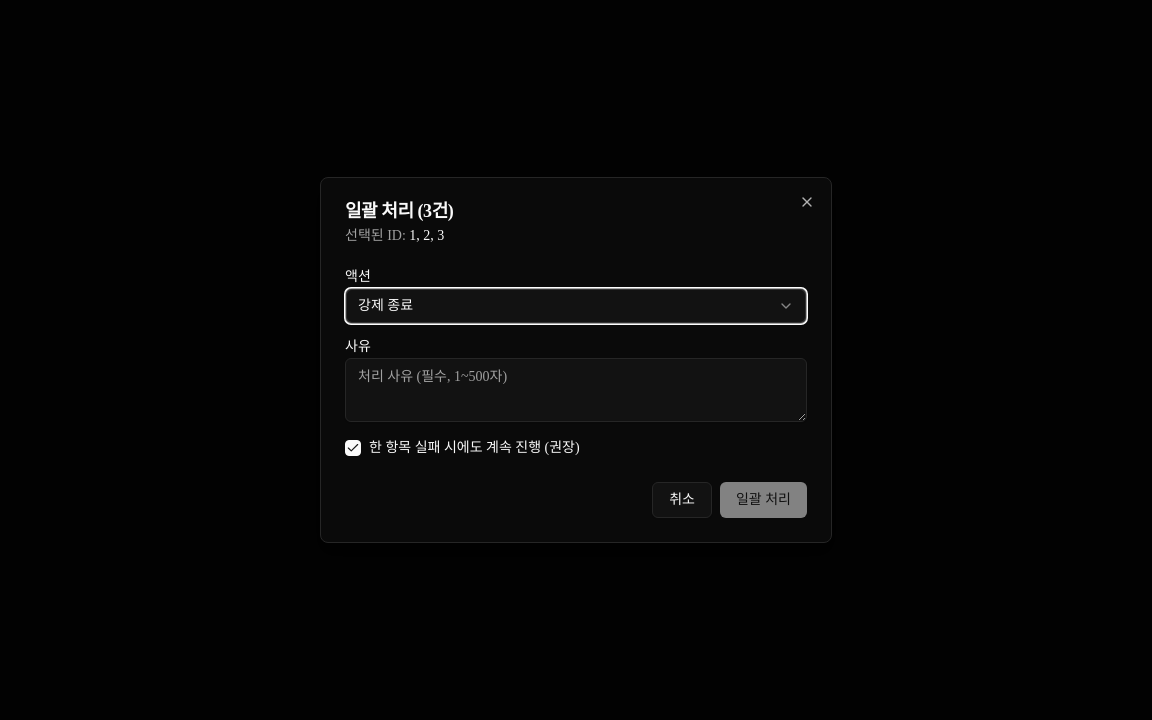
Test case: BulkActionDialog › reason 입력 → submit enabled
Type "abuse" into the text box labelled "사유" at (576, 390), box [345,358,807,422]
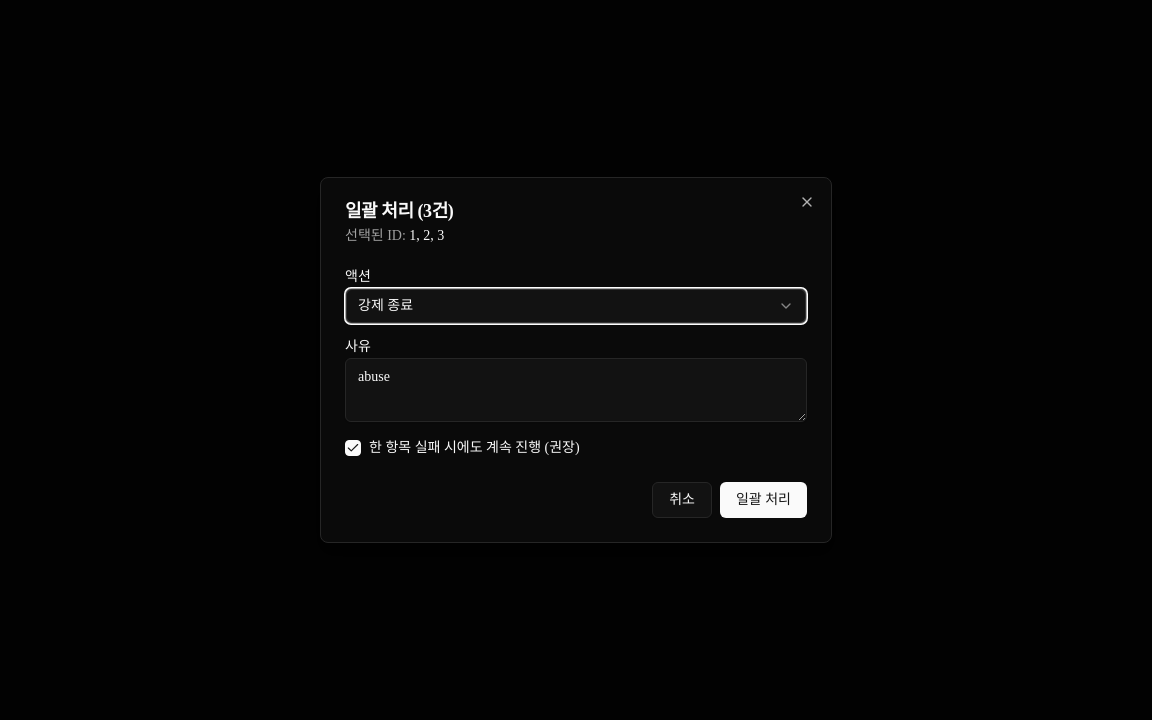
expect the button "일괄 처리" is enabled: met, box [720,482,807,518]
